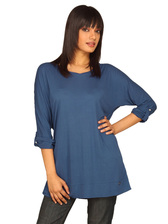clothoes: (26, 58, 158, 195)
